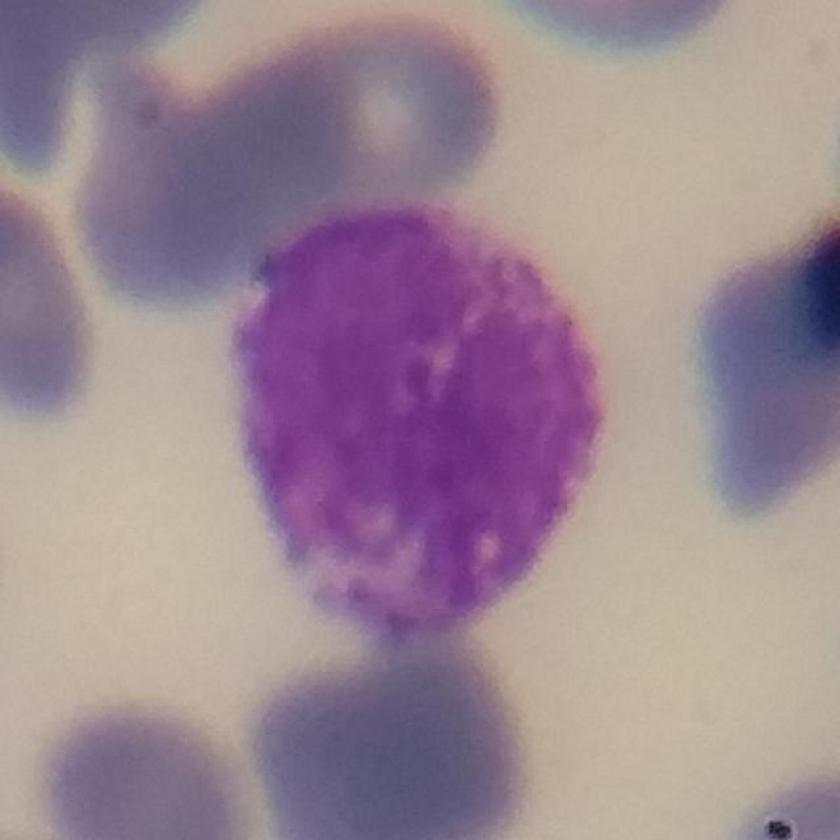basophil: (232, 200, 611, 656)
